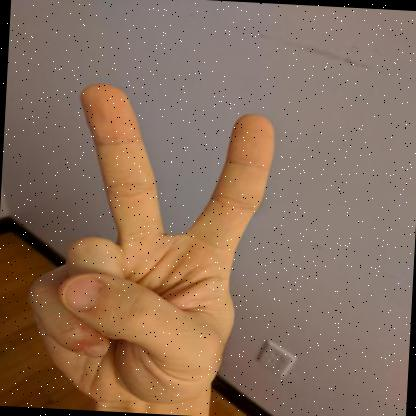V: (27, 83, 274, 416)
